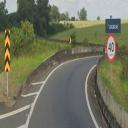speed_limit_40: (106, 33, 116, 63)
